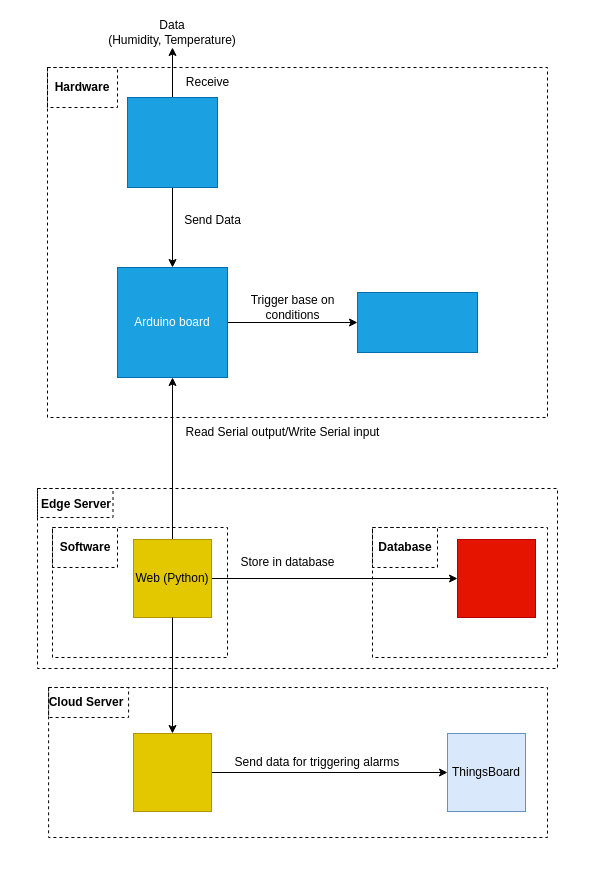
The diagram is 597 pixels wide and 884 high, and some of its shapes have lost their labels. Each missing label, with the box of its shape:
Actuator (LEDs, Fan motor): (356, 292, 478, 352)
Database (MySQL): (456, 538, 536, 618)
Digital Sensor (DHT22): (126, 96, 218, 188)
Listerner (Python): (132, 732, 212, 812)
